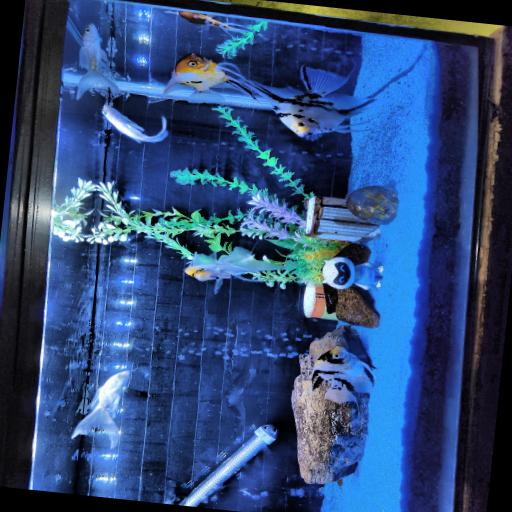Fish: (246, 67, 384, 139), (185, 247, 295, 293), (151, 54, 253, 103), (72, 371, 130, 448), (312, 347, 374, 403), (77, 24, 119, 99), (102, 105, 167, 142), (166, 11, 256, 35)
